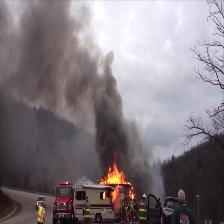fire: (101, 165, 130, 186)
smoke: (21, 1, 89, 107), (89, 64, 128, 161)
